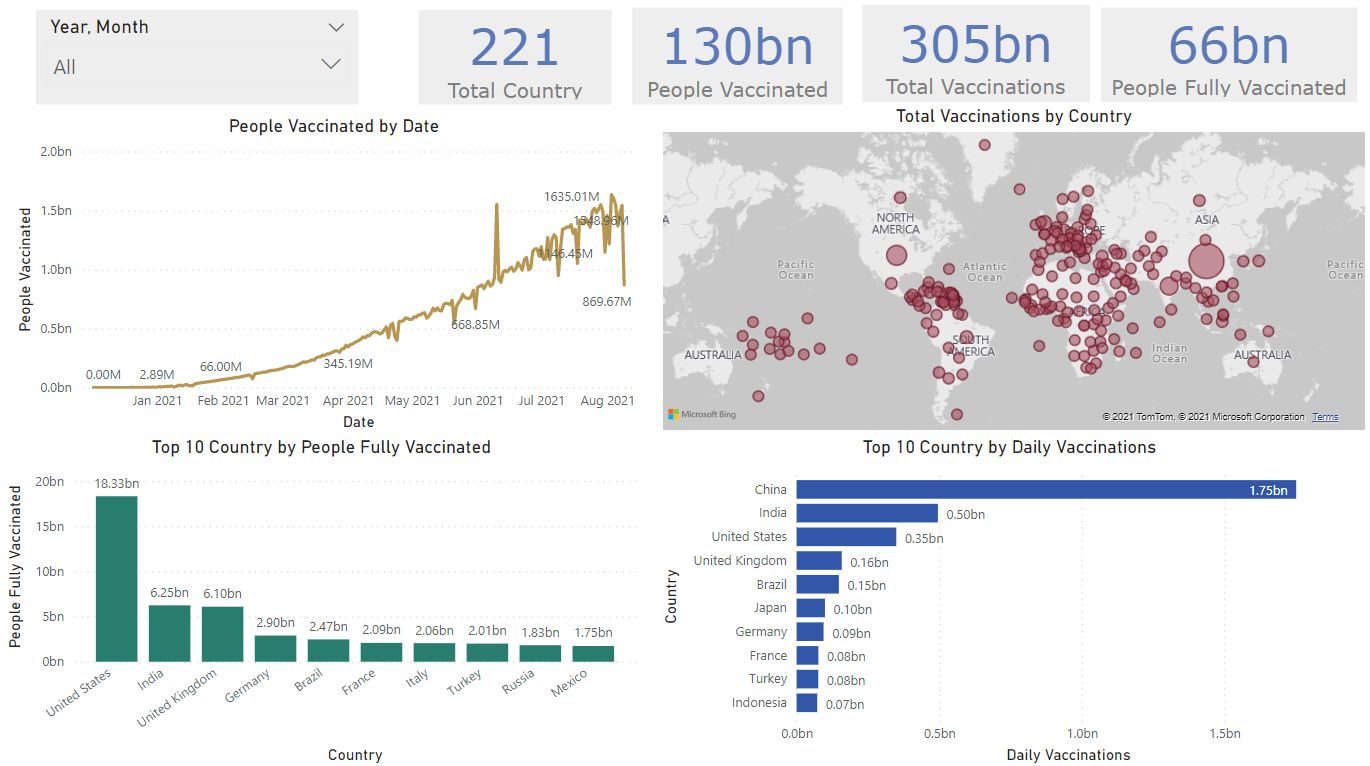

What the dashboard file says about the page in this screenshot:
{"tool":"powerbi","page":{"name":"Report","canvas":[1280,720],"ordinal":0},"visuals":[{"type":"card","fields":{"Values":["Sum(country_vaccinations.total_vaccinations)"]},"box":[805.9,9.7,211.8,90.8],"z":0},{"type":"card","fields":{"Values":["Sum(country_vaccinations.people_vaccinated)"]},"box":[591.7,12.1,196,90.8],"z":1000},{"type":"card","title":"People Fully Vaccinated","fields":{"Values":["Sum(country_vaccinations.people_fully_vaccinated)"]},"box":[1028.6,12.1,238.4,88.3],"z":2000},{"type":"card","fields":{"Values":["Count(Country Vaccinations.Country)"]},"box":[393.3,14.5,180.3,88.3],"z":3000},{"type":"lineChart","fields":{"Y":["Sum(Country Vaccinations.People Vaccinated)"],"Category":["Date Table.Date"]},"box":[14.5,111.3,601.4,298.9],"z":4000},{"type":"clusteredColumnChart","title":"Top 10 Country by People Fully Vaccinated","fields":{"Category":["Country Vaccinations.Country"],"Y":["Sum(Country Vaccinations.People Fully Vaccinated)"]},"box":[4.8,410.2,596.6,309.8],"z":5000},{"type":"clusteredBarChart","title":"Top 10 Country by Daily Vaccinations","fields":{"Y":["Sum(Country Vaccinations.Daily Vaccinations)"],"Category":["Country Vaccinations.Country"]},"box":[615.9,410.2,655.9,309.8],"z":6000},{"type":"slicer","fields":{"Values":["Date Table.Date.Variation.Date Hierarchy.Year","Date Table.Date.Variation.Date Hierarchy.Month"]},"box":[37.5,14.5,300.1,88.3],"z":7000},{"type":"map","fields":{"Category":["Country Vaccinations.Country"],"Size":["Sum(Country Vaccinations.Total Vaccinations)"]},"box":[615.9,102.9,664.3,307.4],"z":8000}]}

Visuals, with their boxes in screenshot pixels (x1, y1, x2, y2), scaled from the page's 1280x720 canvas onto the 1370x766 screenshot:
card - Sum(country_vaccinations.total_vaccinations): l=863, t=10, r=1089, b=107
card - Sum(country_vaccinations.people_vaccinated): l=633, t=13, r=843, b=109
"People Fully Vaccinated" card: l=1101, t=13, r=1356, b=107
card - Count(Country Vaccinations.Country): l=421, t=15, r=614, b=109
lineChart - Sum(Country Vaccinations.People Vaccinated) x Date Table.Date: l=16, t=118, r=659, b=436
"Top 10 Country by People Fully Vaccinated" clusteredColumnChart: l=5, t=436, r=644, b=765
"Top 10 Country by Daily Vaccinations" clusteredBarChart: l=659, t=436, r=1361, b=765
slicer - Date Table.Date.Variation.Date Hierarchy.Year x Date Table.Date.Variation.Date Hierarchy.Month: l=40, t=15, r=361, b=109
map - Country Vaccinations.Country x Sum(Country Vaccinations.Total Vaccinations): l=659, t=109, r=1369, b=437
